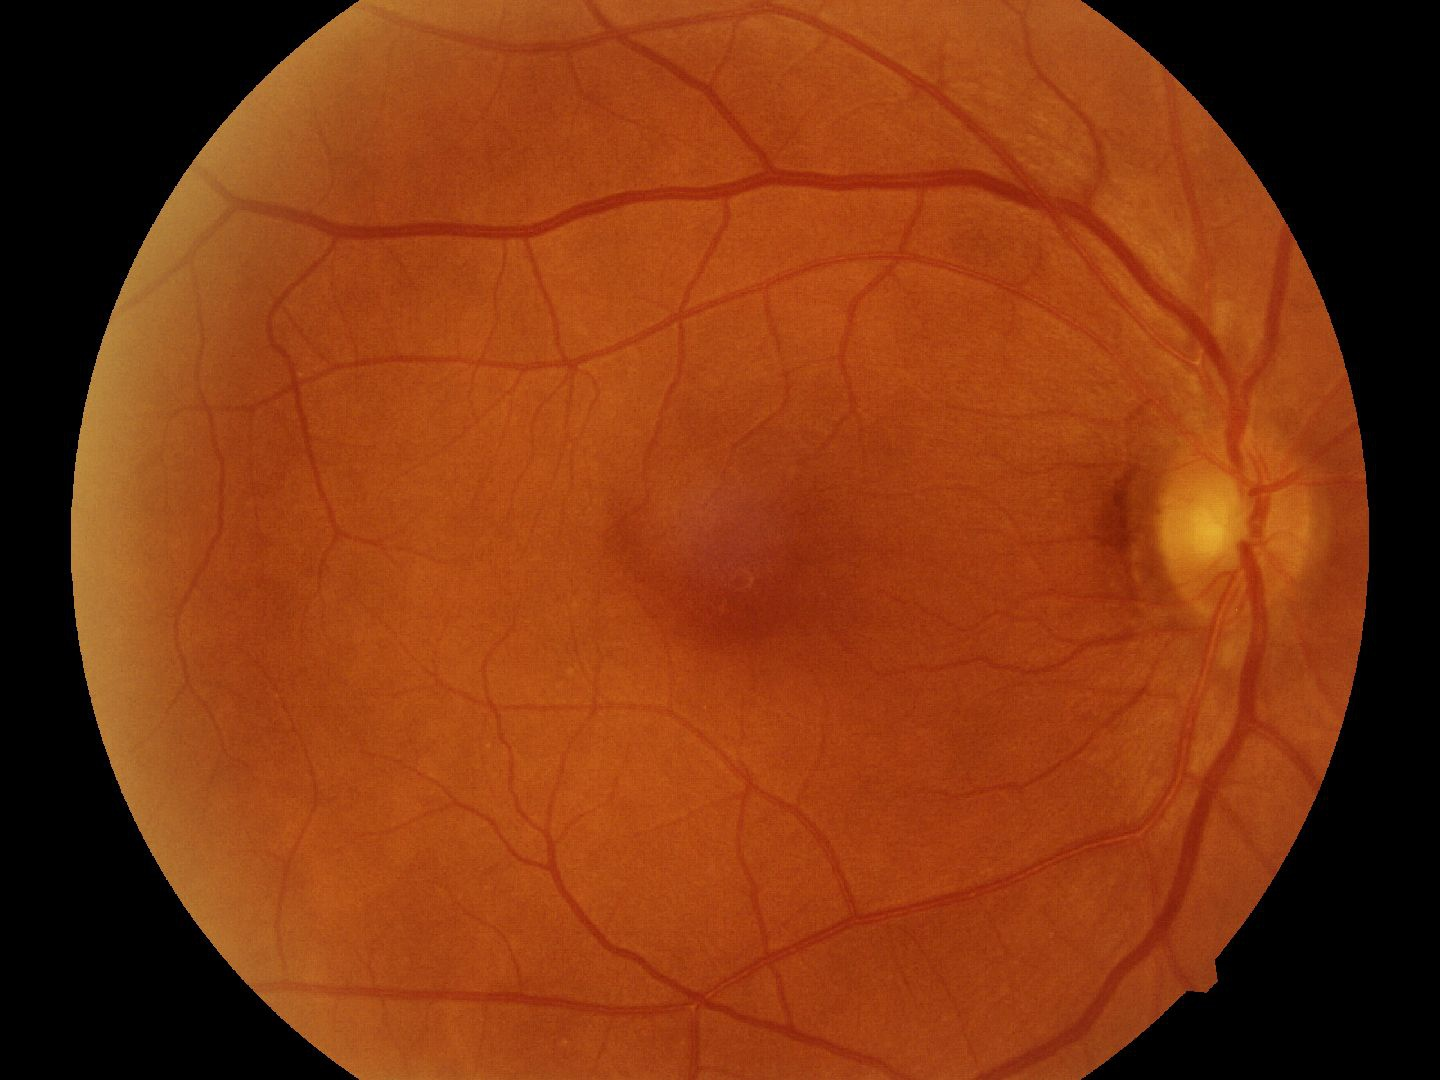Hemorrhages: (588, 394, 907, 652)
Optic-Disc: (1167, 404, 1323, 640)
Venules: (627, 60, 1099, 242), (1093, 655, 1263, 933)
